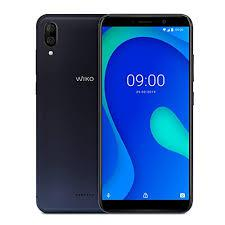Smartphone: (101, 14, 191, 214), (39, 14, 99, 213)
